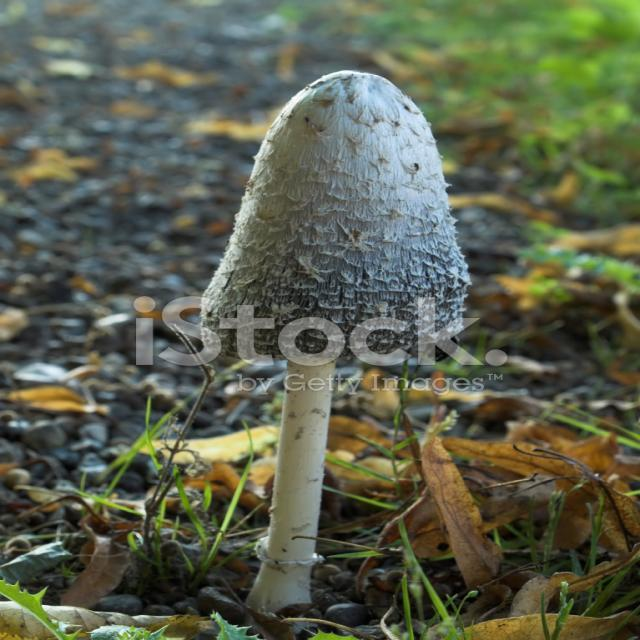Coprinus comatus: (197, 72, 469, 607)
